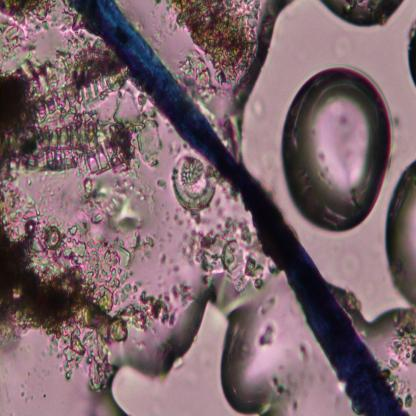Air bubble: (94, 294, 268, 414), (280, 59, 393, 236), (339, 161, 416, 332), (406, 16, 416, 86)
Background material: (0, 182, 168, 384), (162, 0, 265, 99), (179, 216, 282, 302), (0, 77, 48, 193), (0, 1, 67, 74), (110, 94, 162, 168), (381, 316, 416, 406), (258, 366, 304, 414), (257, 320, 275, 347)
Diatom: (14, 44, 121, 124), (12, 121, 134, 175), (172, 153, 218, 213)
